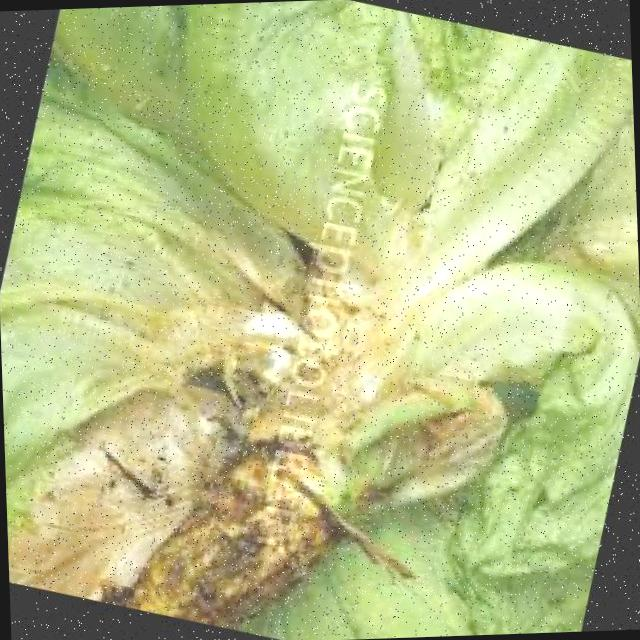Septoria_Blight: (0, 80, 636, 640), (0, 102, 12, 640)
